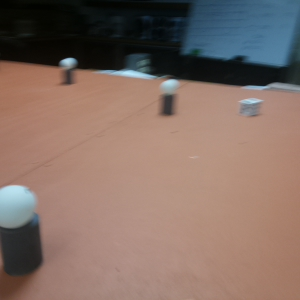blockF: (238, 99, 262, 119)
obstacle: (1, 185, 44, 279), (160, 77, 179, 117), (61, 57, 76, 84)
